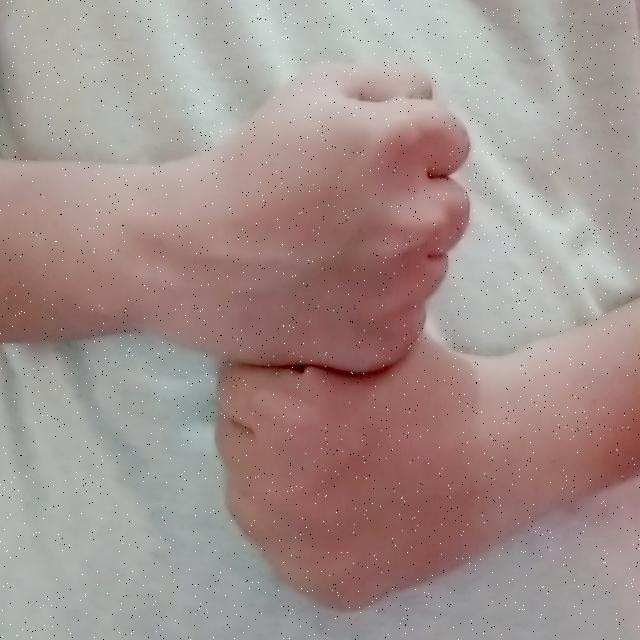G: (192, 54, 507, 617)
